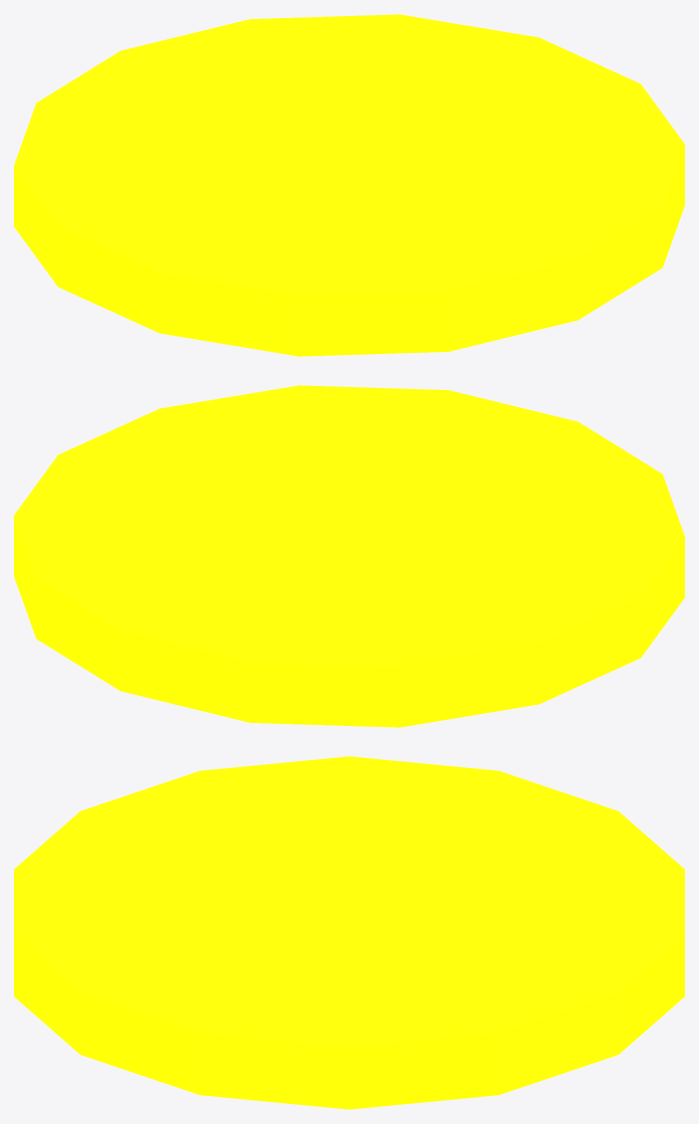
The model's file is flash.glb.
3 renders of one model, top to bottom at view 1: azimuth 30°, elevation 25°; view 2: azimuth 150°, elevation 25°; view 3: azimuth 270°, elevation 25°, orthographic. The views are drawn at different scales.
Visible parts, largest first — view 1: Flash; view 2: Flash; view 3: Flash.
Boxes of the visible parts, left/top/right/bottom form: Flash: left=14, top=14, right=684, bottom=356; Flash: left=14, top=385, right=684, bottom=727; Flash: left=14, top=756, right=684, bottom=1109.
Bounding box in the file's own units: 0.2 × 0.02 × 0.195.
